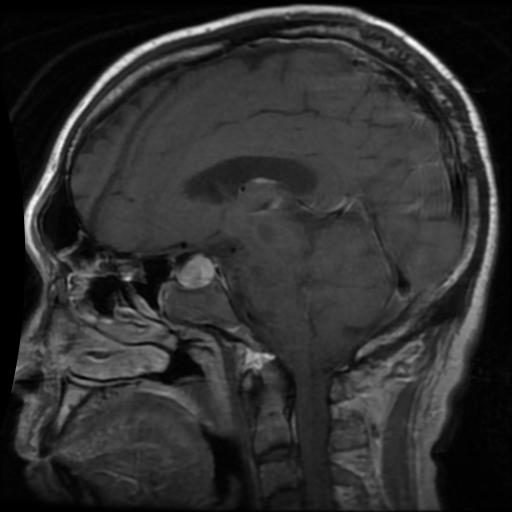Pituirity_tumour: (176, 257, 212, 286)
